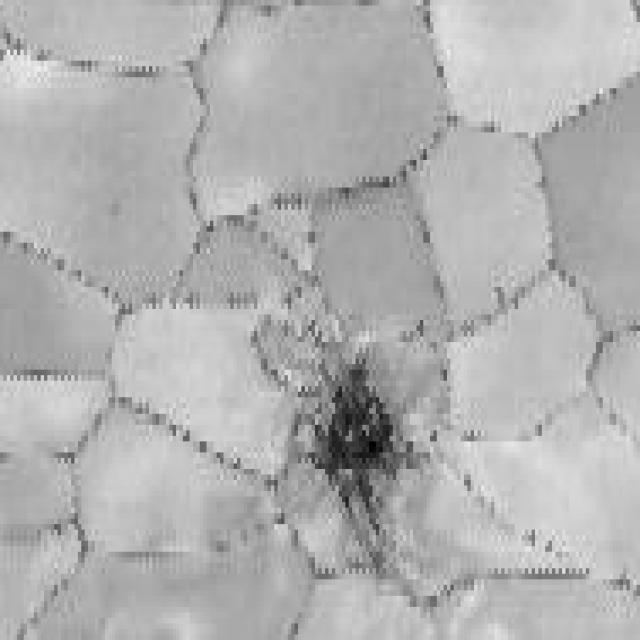good_void: (290, 340, 428, 559)
